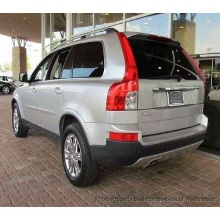no damage: (11, 30, 209, 186)
